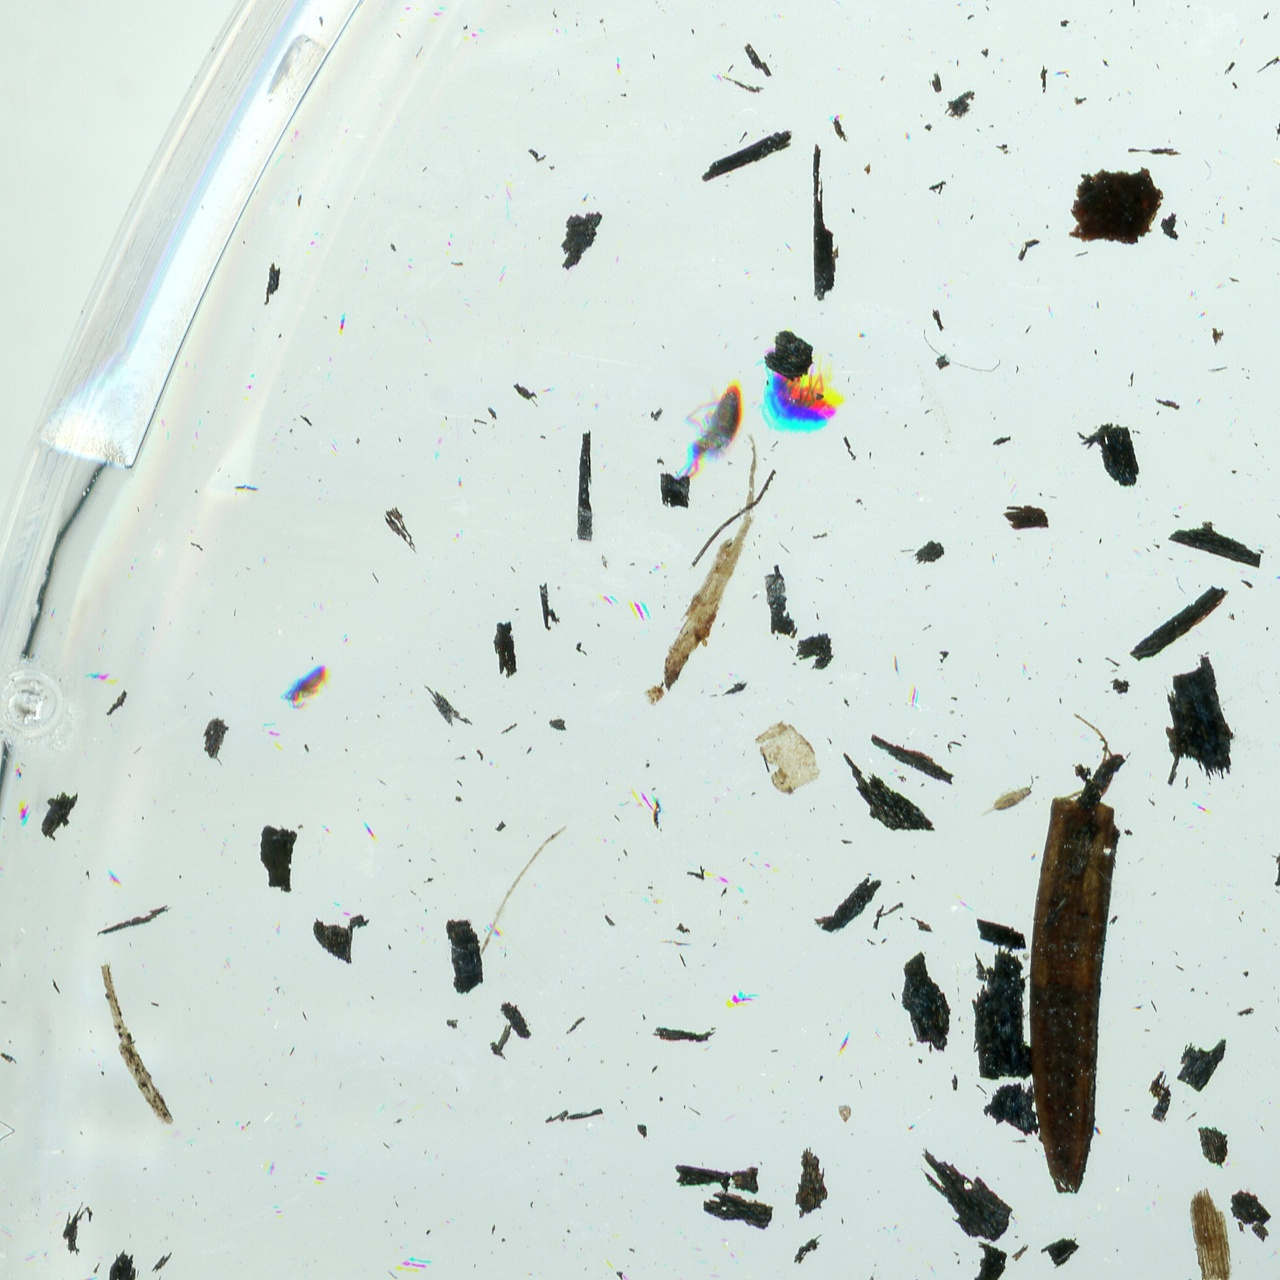arthropod: (670, 370, 754, 489), (756, 339, 851, 436), (968, 770, 1046, 830), (277, 656, 333, 714)
